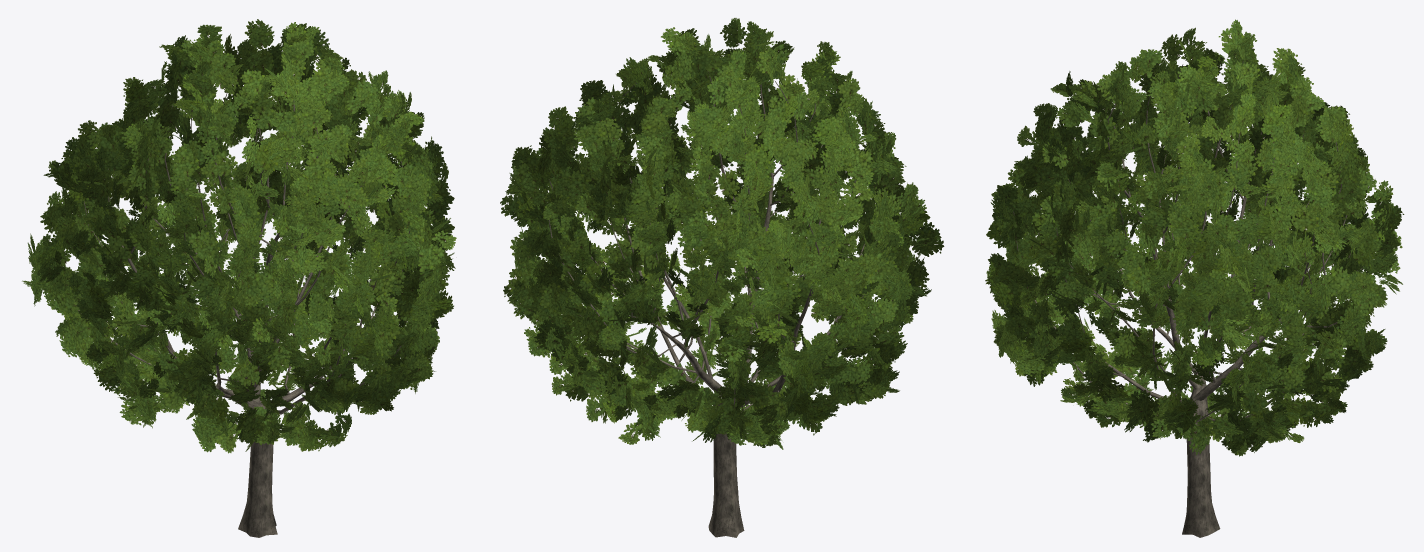
The model's file is arbre_feuillu_rond_lod0.glb.
The picture shows the model from 3 angles, left to right: view 1: azimuth 30°, elevation 25°; view 2: azimuth 150°, elevation 25°; view 3: azimuth 270°, elevation 25°; orthographic projection.
Parts seen in each view (by area): view 1: arbre_feuillu_rond_lod0; view 2: arbre_feuillu_rond_lod0; view 3: arbre_feuillu_rond_lod0.
Boxes of the visible parts, <box> form: arbre_feuillu_rond_lod0: <box>22,19,456,537</box>; arbre_feuillu_rond_lod0: <box>500,18,944,537</box>; arbre_feuillu_rond_lod0: <box>985,19,1404,537</box>.
Size of the model in its own units: 9.4 by 11.23 by 8.9.
2 materials, 2 textured.
